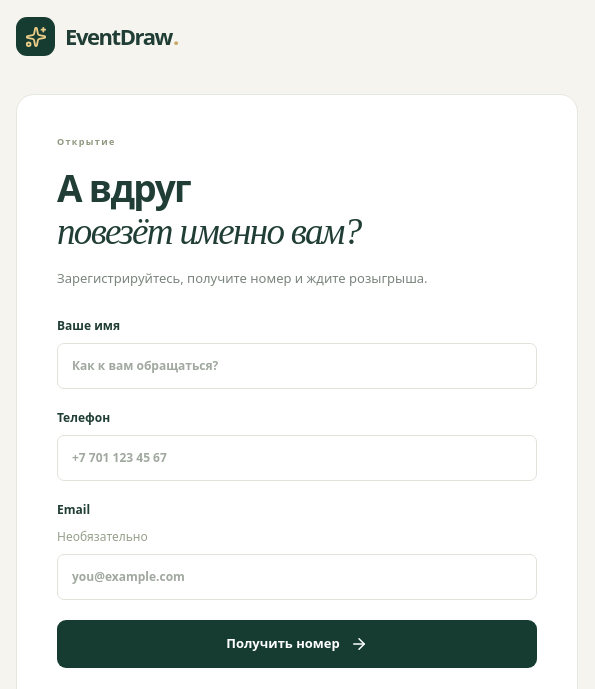
Test: public registration › shows server errors and allows retry without inventing a ticket
This screenshot has width=595, height=689.
Type "Дана" into the field labelled "Ваше имя". click: (297, 366)
box: [57, 343, 537, 389]
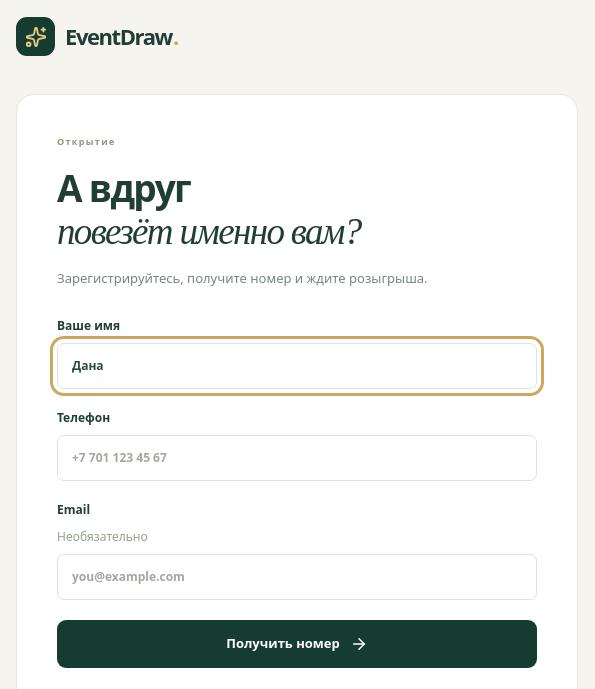
Type "+77011234567" into the field labelled "Телефон". click: (297, 458)
box: [57, 435, 537, 481]
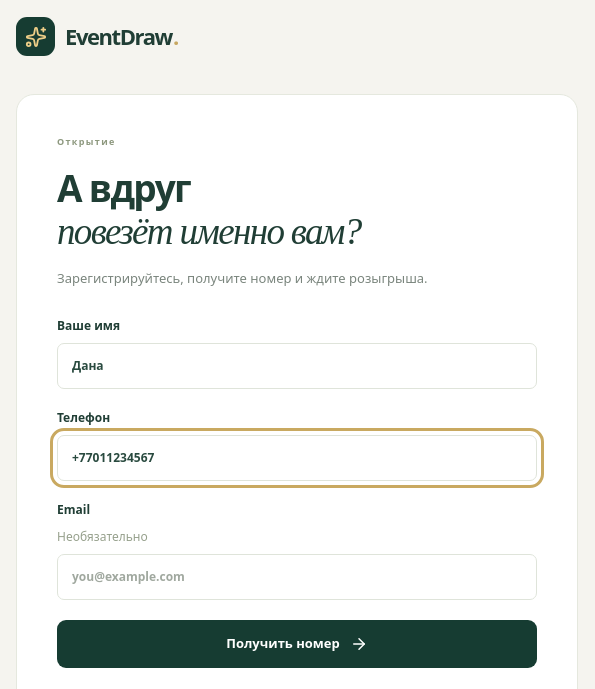
Click the button "Получить номер". click: (297, 644)
box: [57, 620, 537, 668]
(page scrolled)
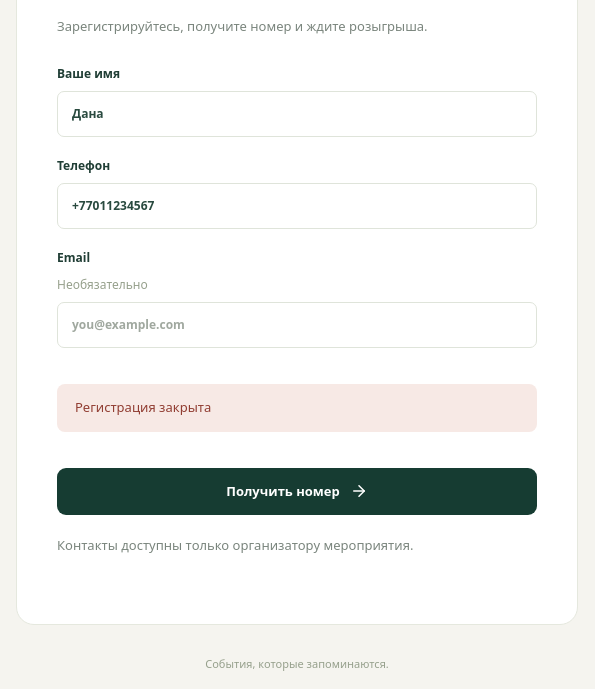
Expected: the button "Получить номер" is enabled, [57, 468, 537, 515]
Expected: the message reads "Регистрация закрыта", [75, 398, 211, 416]
